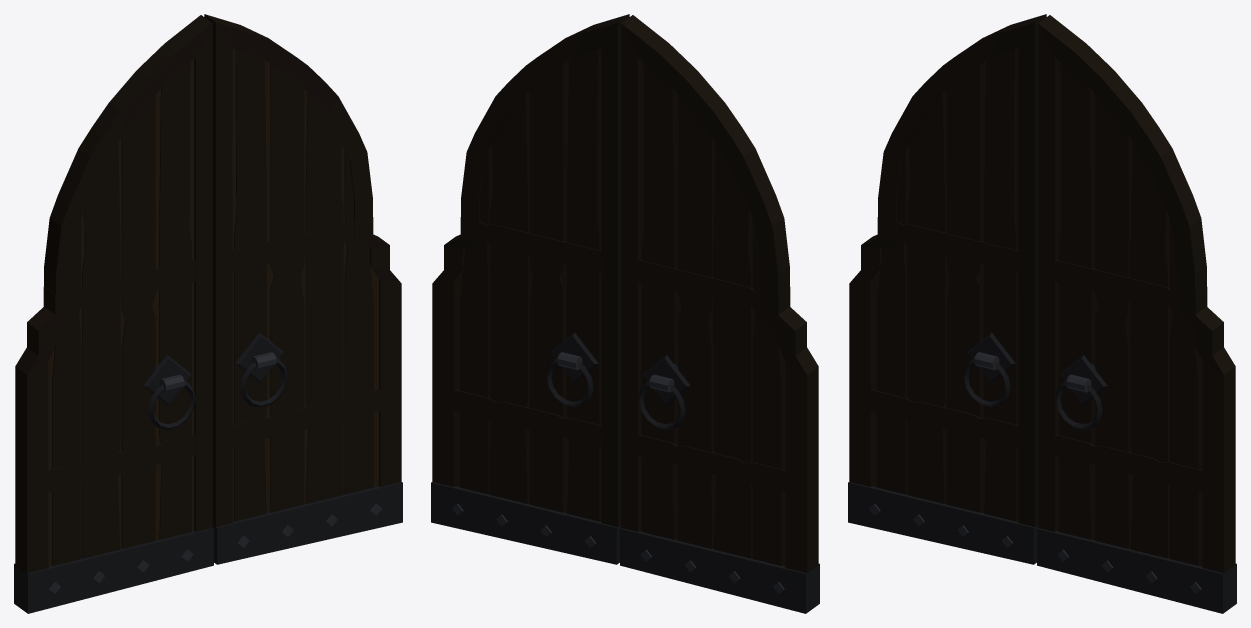
File: Doors_GothicArch.obj
The picture shows the model from 3 angles, left to right: view 1: azimuth 30°, elevation 25°; view 2: azimuth 150°, elevation 25°; view 3: azimuth 330°, elevation 25°; orthographic projection.
Parts seen in each view (by area): view 1: Doors_GothicArch_L_Cylinder.002, Doors_GothicArch_R_Cylinder.001; view 2: Doors_GothicArch_L_Cylinder.002, Doors_GothicArch_R_Cylinder.001; view 3: Doors_GothicArch_R_Cylinder.001, Doors_GothicArch_L_Cylinder.002.
Part boxes in pixels (<box>): Doors_GothicArch_L_Cylinder.002: <box>14,15,213,613</box>; Doors_GothicArch_R_Cylinder.001: <box>204,14,402,564</box>; Doors_GothicArch_L_Cylinder.002: <box>620,15,819,613</box>; Doors_GothicArch_R_Cylinder.001: <box>431,14,629,564</box>; Doors_GothicArch_R_Cylinder.001: <box>1037,15,1236,613</box>; Doors_GothicArch_L_Cylinder.002: <box>848,14,1046,564</box>.
Size of the model in its own units: 2.31 by 3.21 by 0.2743.
